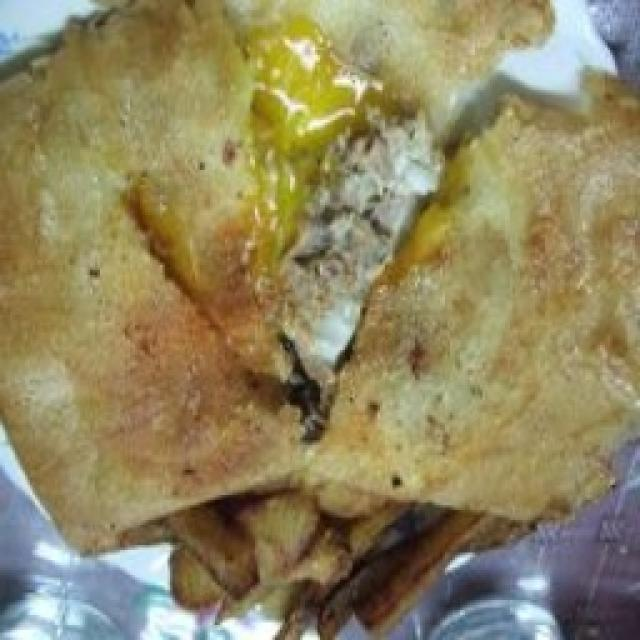Brik: (0, 0, 640, 552)
